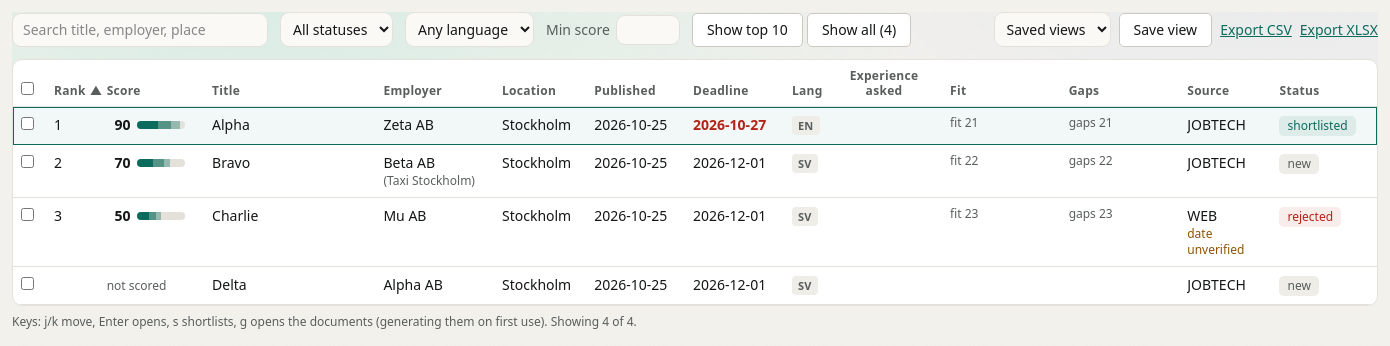
Test: results table › filters by status, language and minimum score
The image size is (1390, 346).
Select "rejected" in the dropdown named "Filter by status" at (336, 30), box [280, 12, 393, 47]
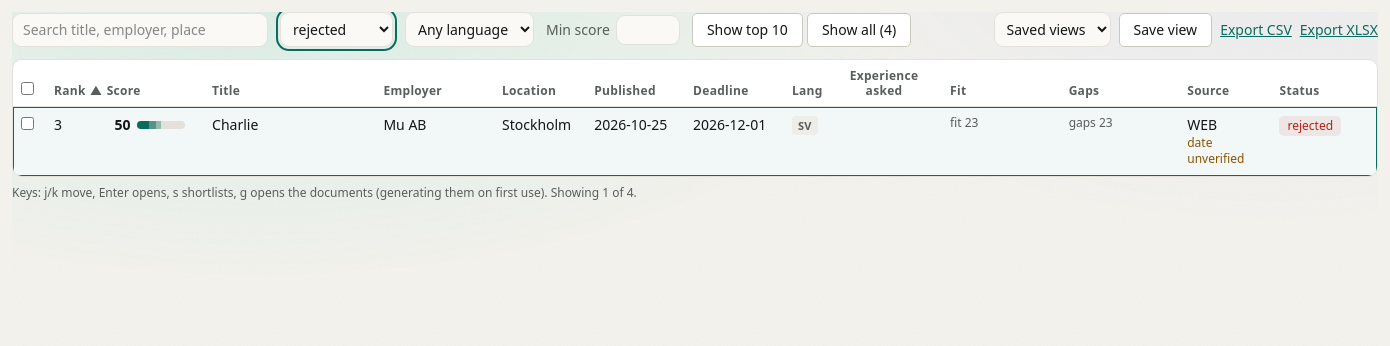
Select "All statuses" in the dropdown named "Filter by status" at (336, 30), box [280, 12, 393, 47]
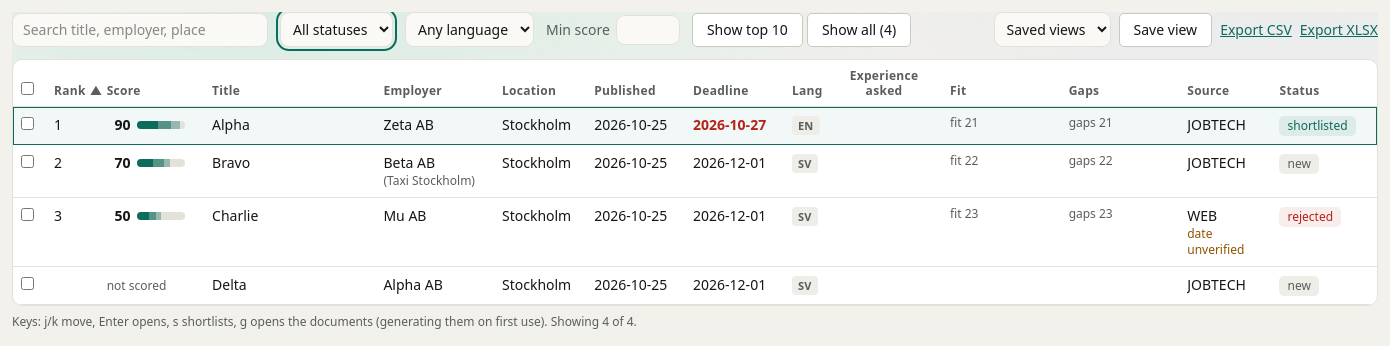
Select "English" in the dropdown named "Filter by language" at (470, 30), box [405, 12, 534, 47]
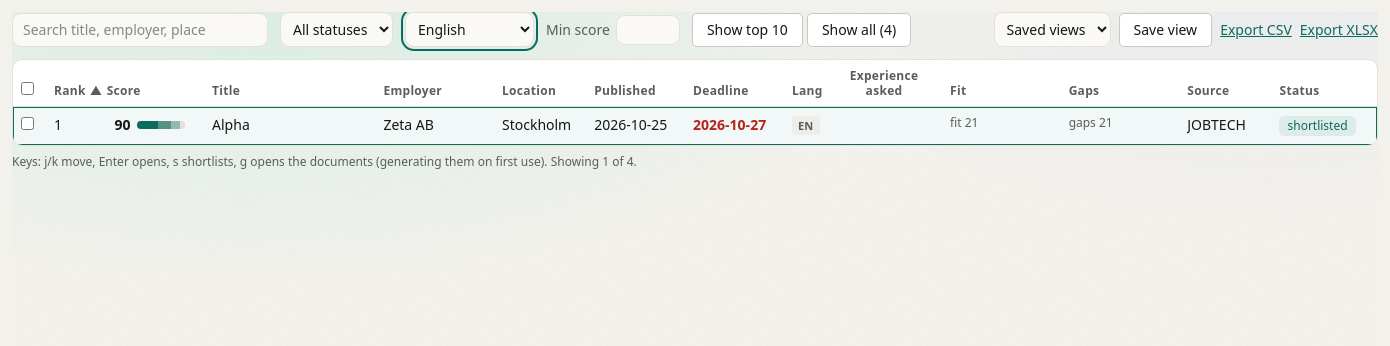
Select "Any language" in the dropdown named "Filter by language" at (470, 30), box [405, 12, 534, 47]
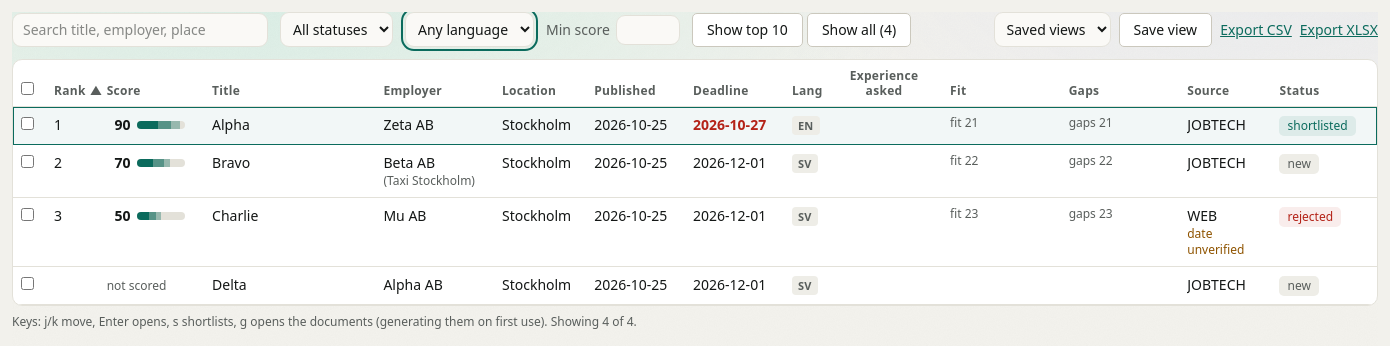
Type "60" into the number field named "Minimum score" at (648, 30), box [616, 14, 680, 44]
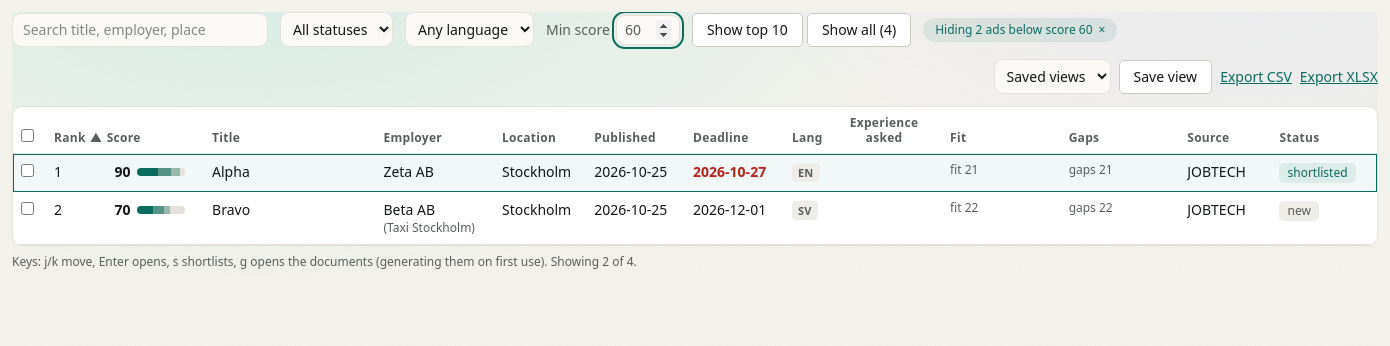
Type "nothing like this" into the field named "Search ads" at (140, 30), box [12, 12, 268, 46]
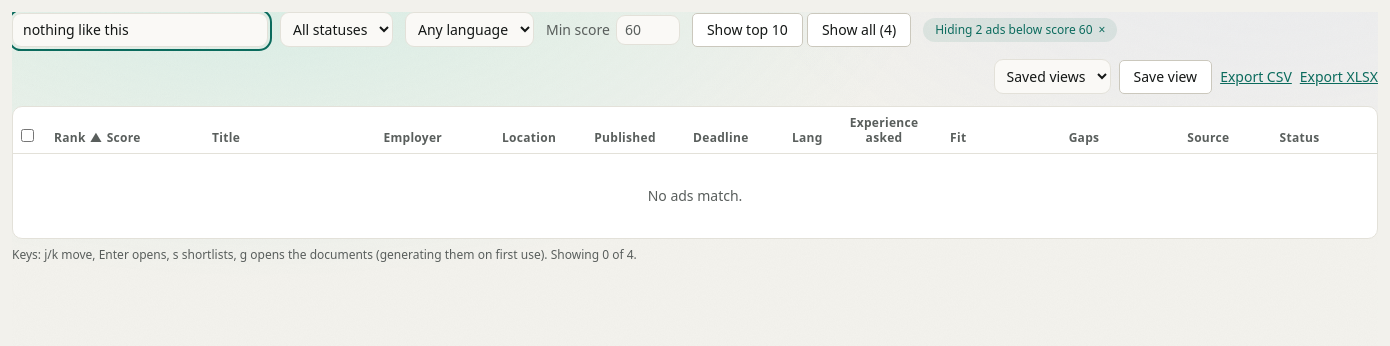
expect the text "No ads match." is shown: met, box [13, 154, 1377, 238]
